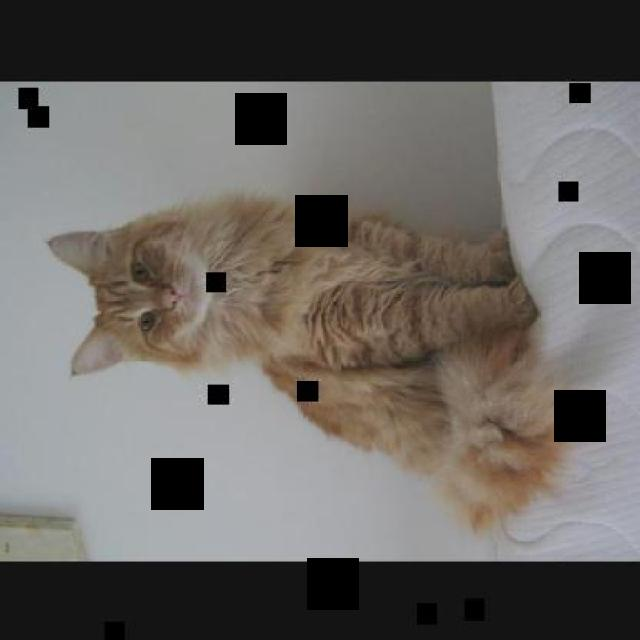unauthorized: (46, 192, 539, 377), (262, 324, 572, 534)
